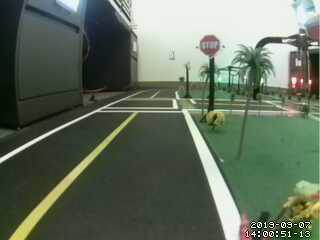Stop_Sign: (198, 29, 232, 56)
